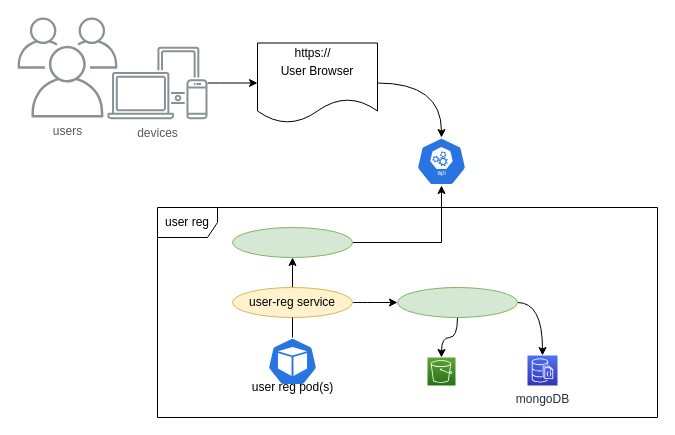
Image size: 675x435. Some labels were removed from this diagram. The box of each missing label's shape, as (x1, y1, x2, y2) in pixels:
aws-sdk: (396, 286, 518, 318)
S3 Bucket: (426, 356, 456, 386)
user-reg route: (232, 226, 352, 258)
